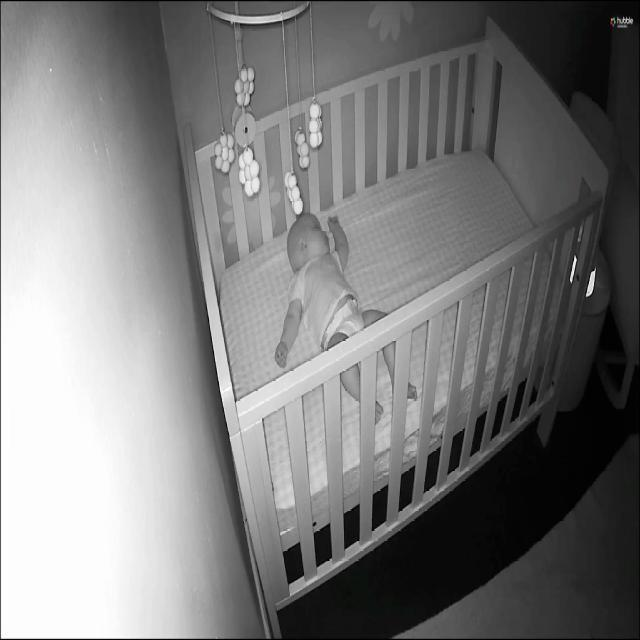baby: (274, 207, 421, 430)
